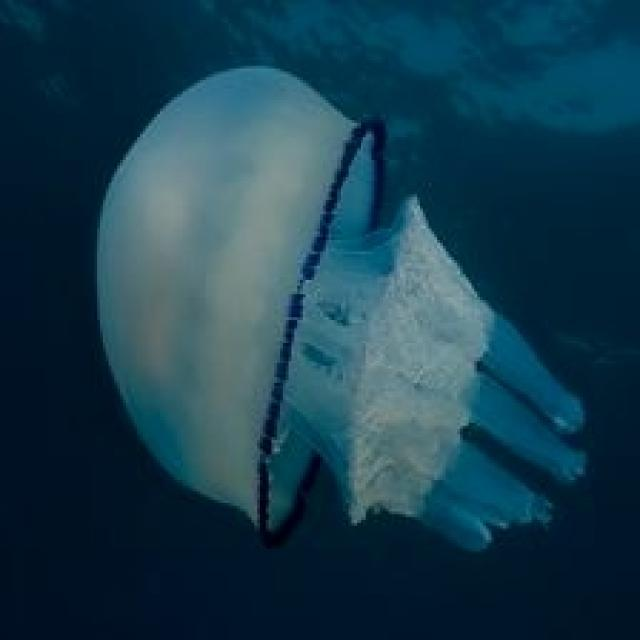Box-jellyfish: (91, 63, 592, 551)
